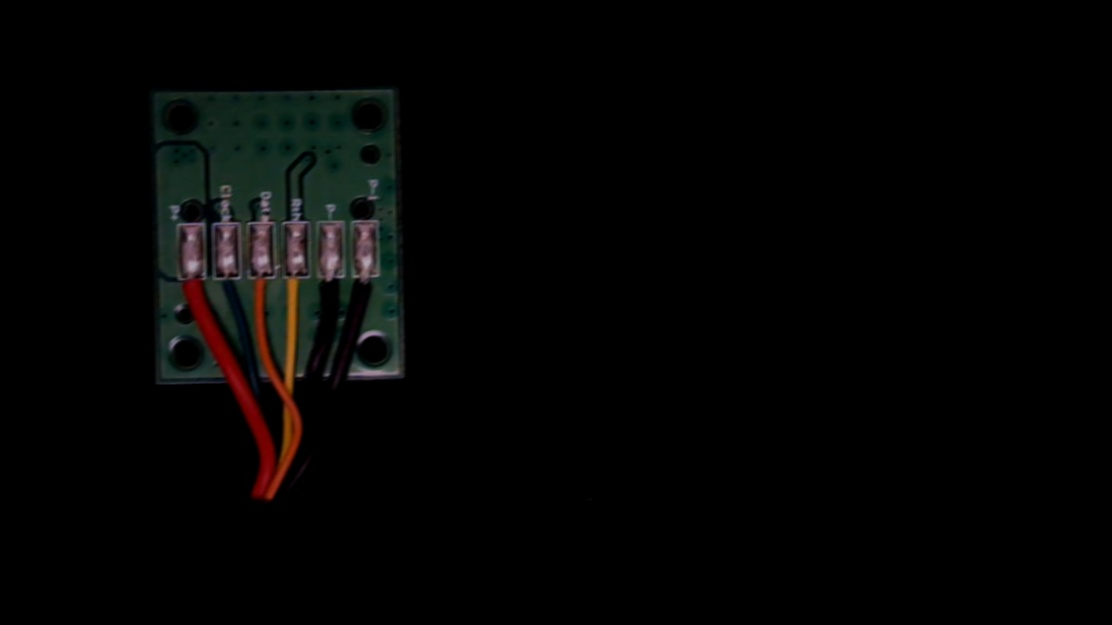Black: (319, 263, 344, 314)
Black1: (351, 263, 380, 314)
Green: (216, 264, 243, 311)
Orange: (250, 263, 274, 314)
Red: (176, 268, 208, 318)
Yellow: (283, 262, 308, 315)
